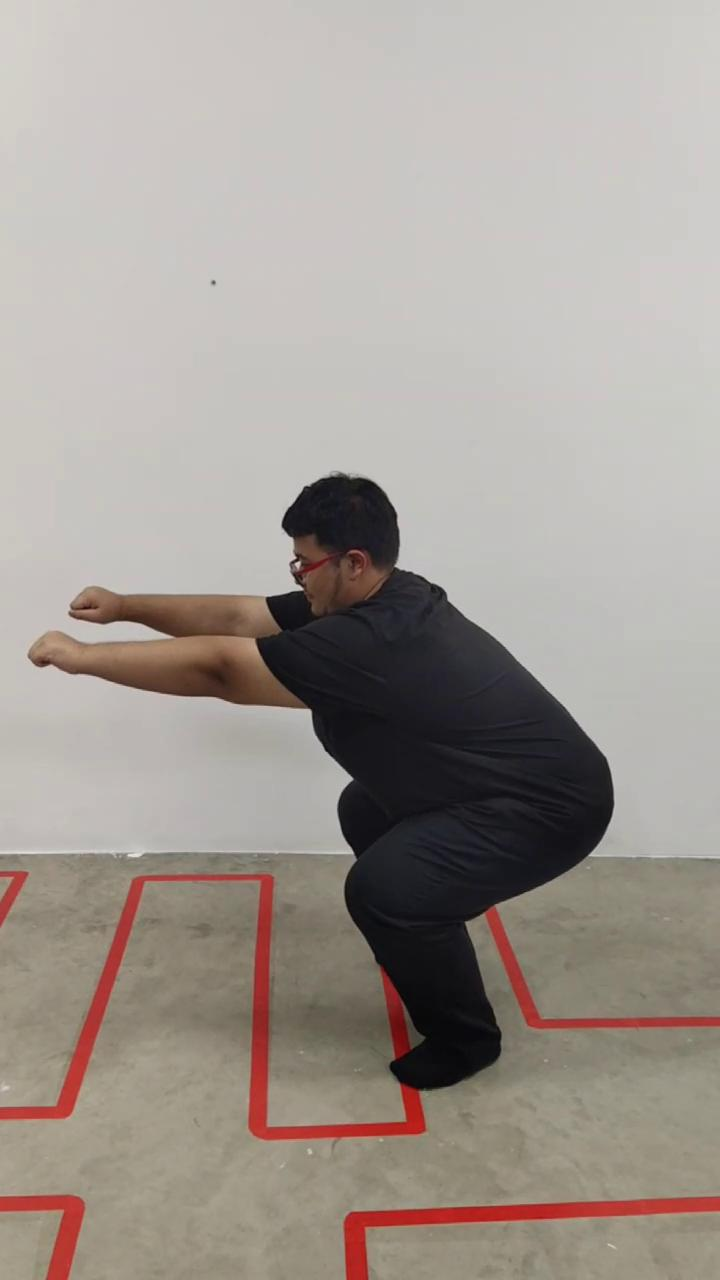squat down: (36, 474, 616, 1093)
